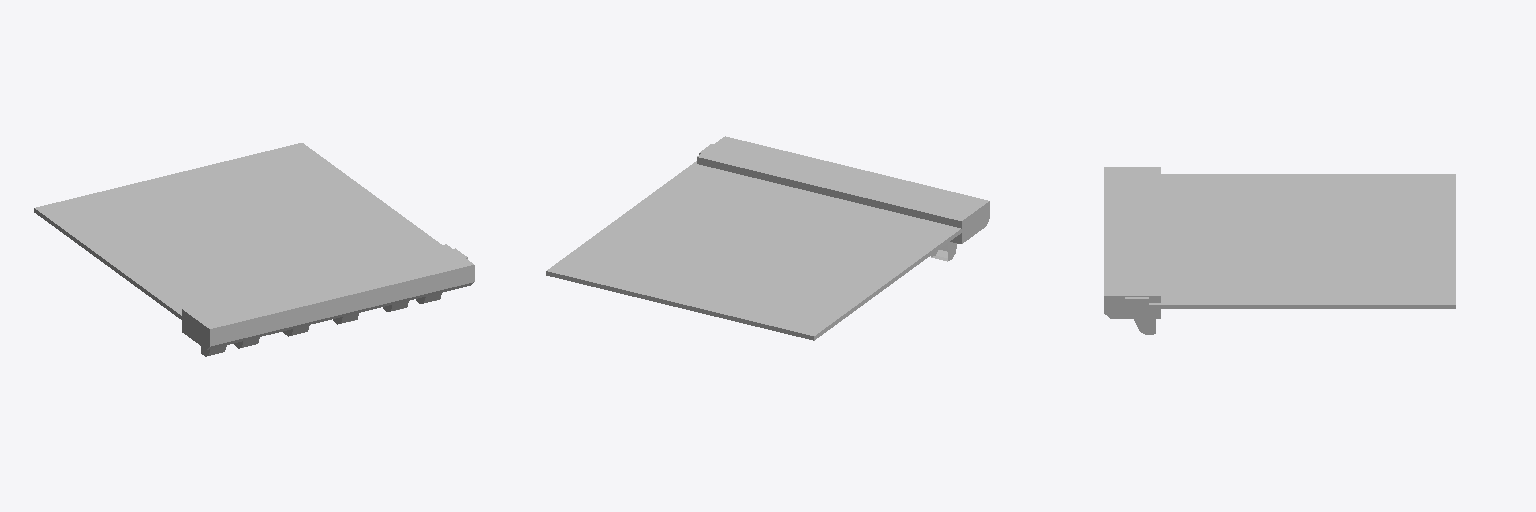
File: NY_roof2.obj
3 views of the same model, side by side, from view 1: azimuth 30°, elevation 25°; view 2: azimuth 150°, elevation 25°; view 3: azimuth 270°, elevation 25° (orthographic).
Parts seen in each view (by area): view 1: LEDGE_01_DEF.obj; view 2: LEDGE_01_DEF.obj; view 3: LEDGE_01_DEF.obj.
Boxes of the visible parts, x1,y1,x2,y2 form: LEDGE_01_DEF.obj: [34, 143, 474, 356]; LEDGE_01_DEF.obj: [546, 136, 989, 340]; LEDGE_01_DEF.obj: [1104, 167, 1455, 334].
Size of the model in its own units: 3.04 by 0.512 by 3.45.